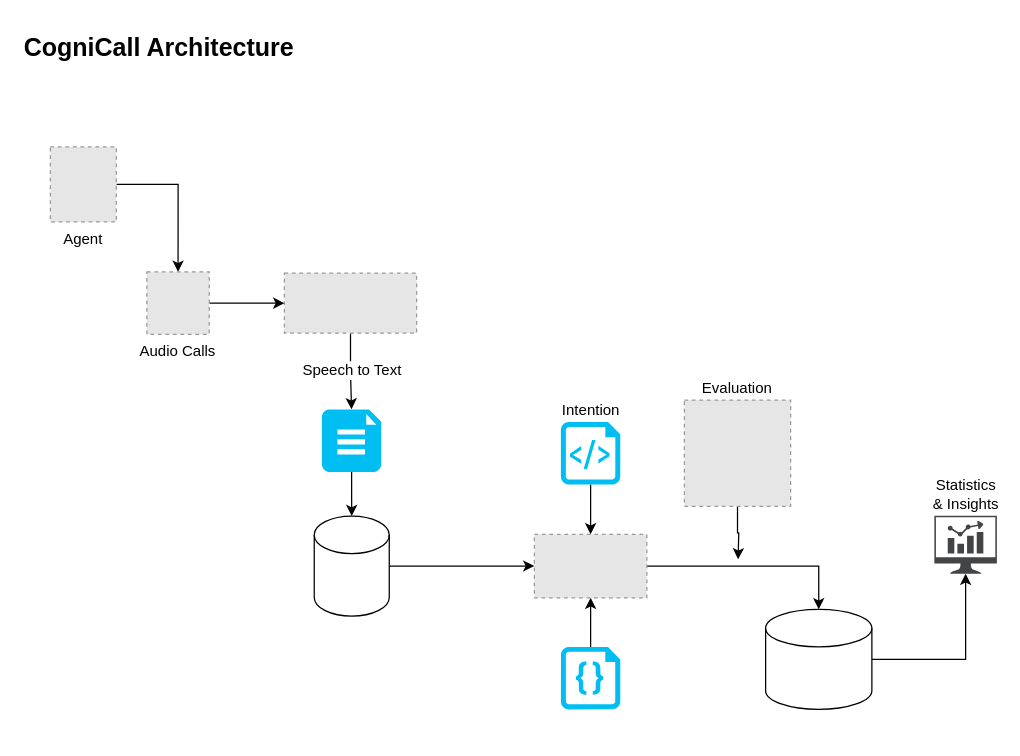
The diagram is 1020 pixels wide and 756 high, and some of its shapes have lost their labels. Grey dashed boxes stand in for pictures. The centre of each missing label's shape, as x and y in pixels:
"DB" belongs at point 351,565.
"Intentions Quality Call" belongs at point 818,658.
"Script" belongs at point 590,677.
